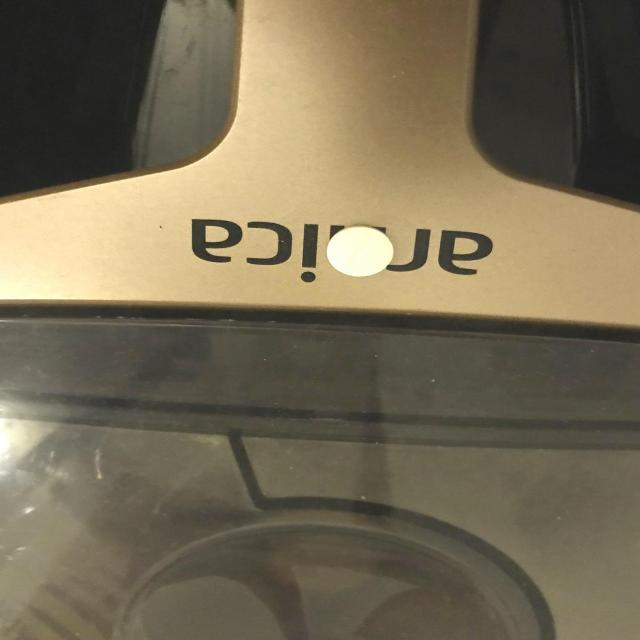pill: (326, 225, 394, 279)
